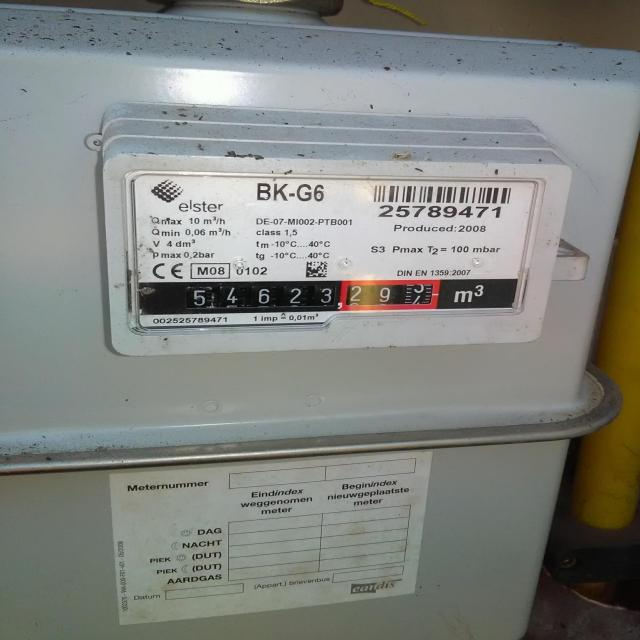gaz_meter: (128, 171, 535, 326)
indication: (137, 280, 447, 315)
